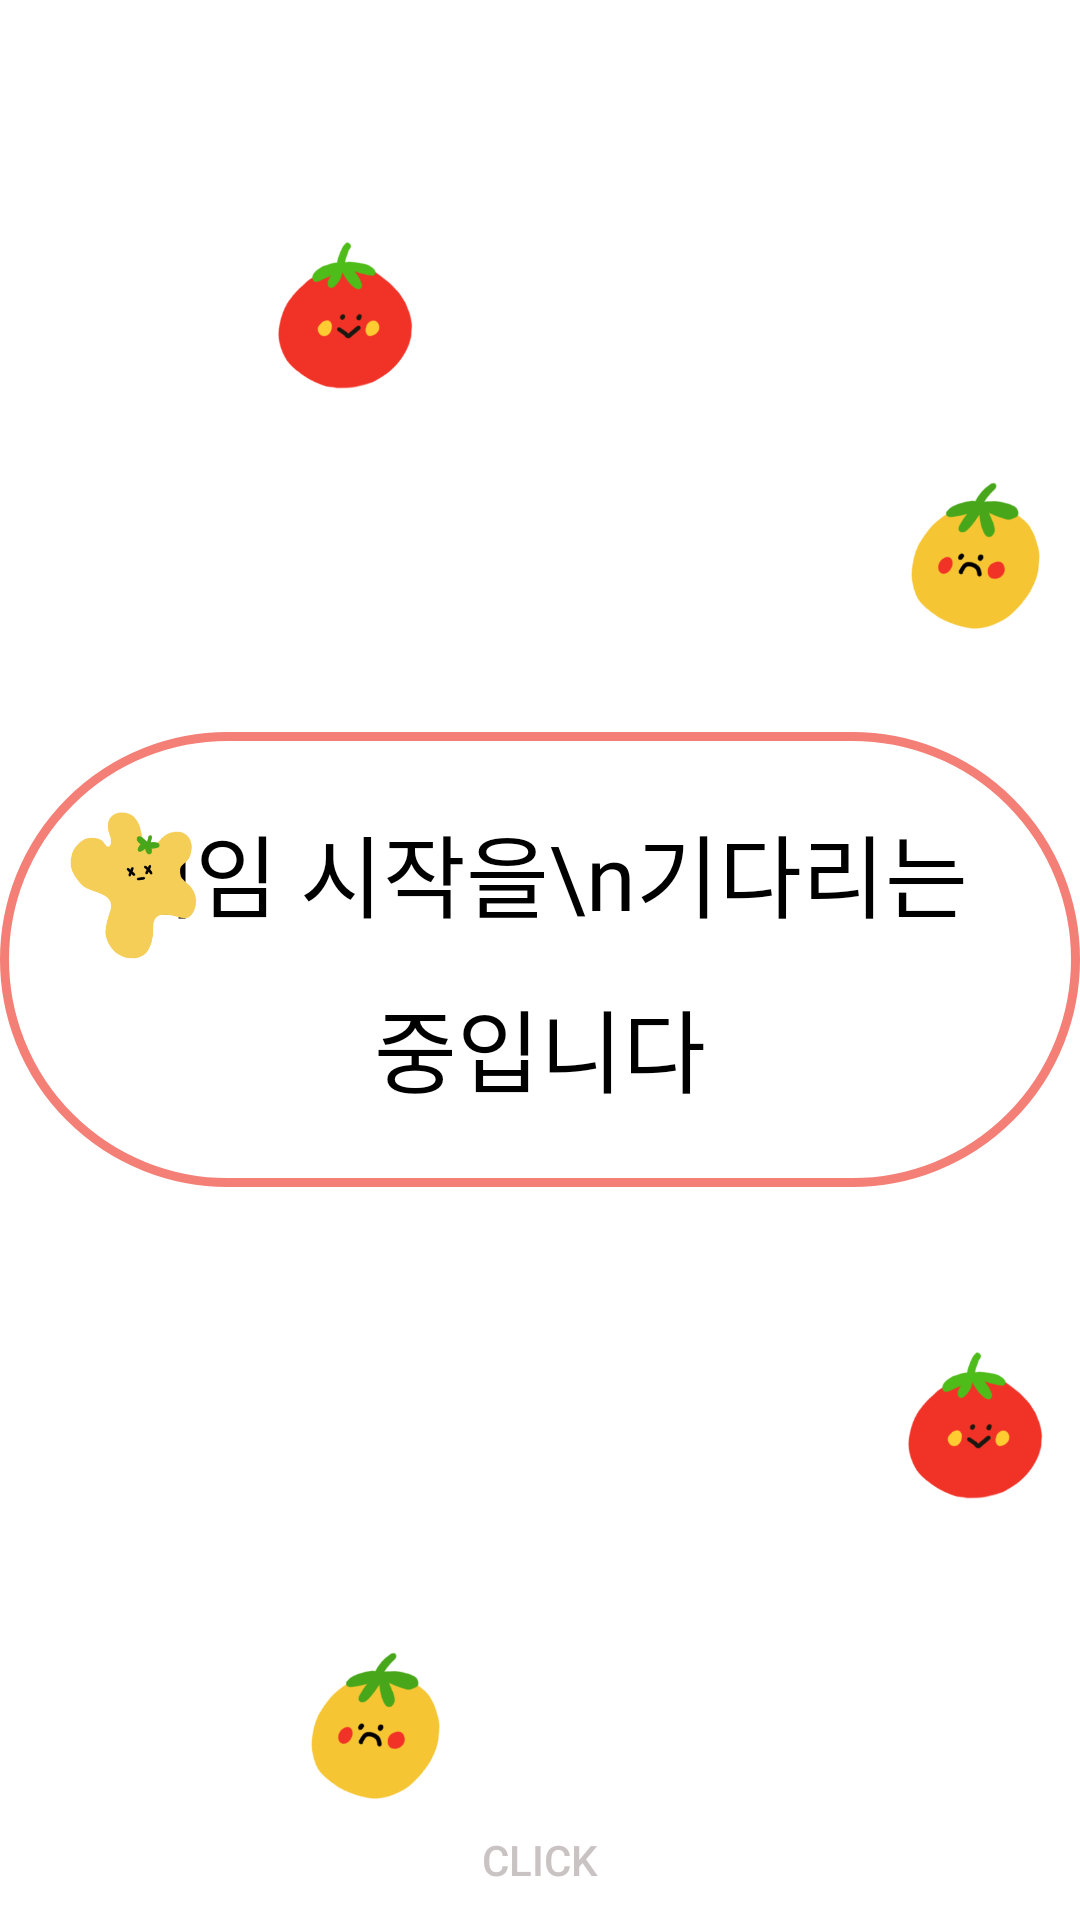

Icons on this 1080 x 1920 Android screen, each with its box as (x1, y1, x2, y2):
tomatodead: (70, 812, 196, 959)
tomatored: (278, 242, 412, 389), (908, 1352, 1042, 1499)
tomatoyellow: (911, 483, 1040, 629), (311, 1653, 440, 1799)
